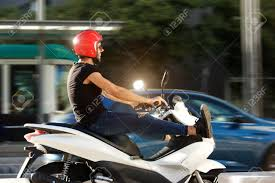helmet: (75, 27, 105, 62)
